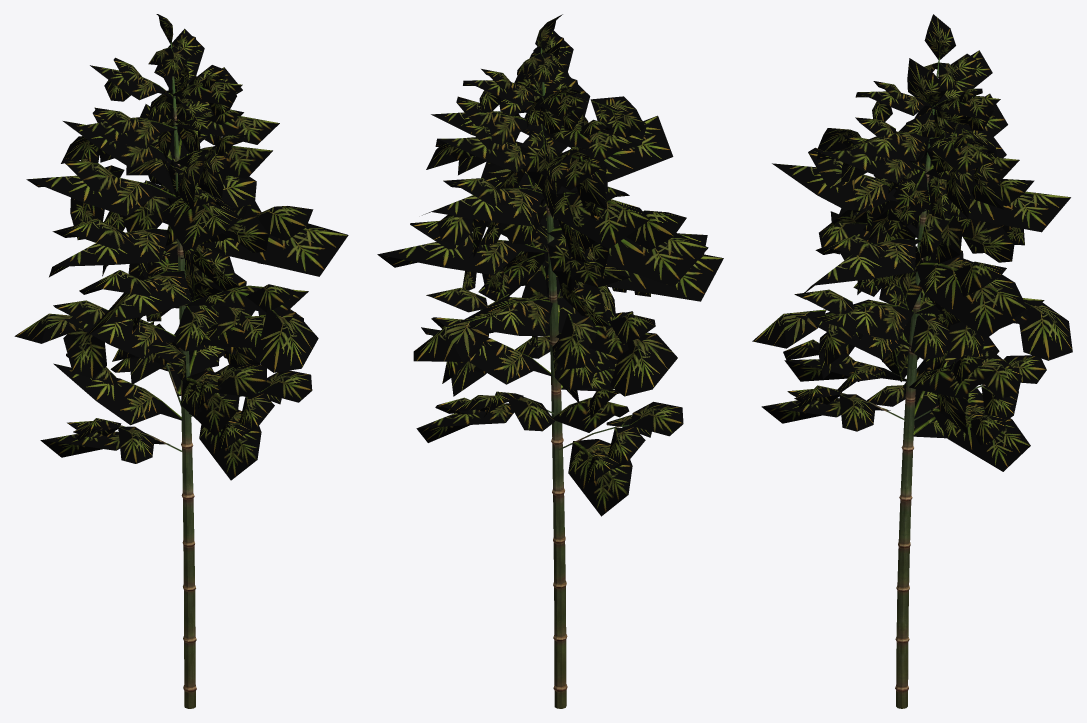
The model's file is bg_anh_tree_te_t47_sm_old.FBX.
3 renders of one model, left to right at view 1: azimuth 30°, elevation 25°; view 2: azimuth 150°, elevation 25°; view 3: azimuth 270°, elevation 25°, orthographic. The views are drawn at different scales.
Parts seen in each view (by area): view 1: bg_anh_tree_te_t47_sm_old; view 2: bg_anh_tree_te_t47_sm_old; view 3: bg_anh_tree_te_t47_sm_old.
Boxes of the visible parts, x1,y1,x2,y2 form: bg_anh_tree_te_t47_sm_old: (14, 14, 348, 708); bg_anh_tree_te_t47_sm_old: (377, 14, 723, 708); bg_anh_tree_te_t47_sm_old: (752, 14, 1072, 708).
Bounding box in the file's own units: 253 × 639 × 272.
